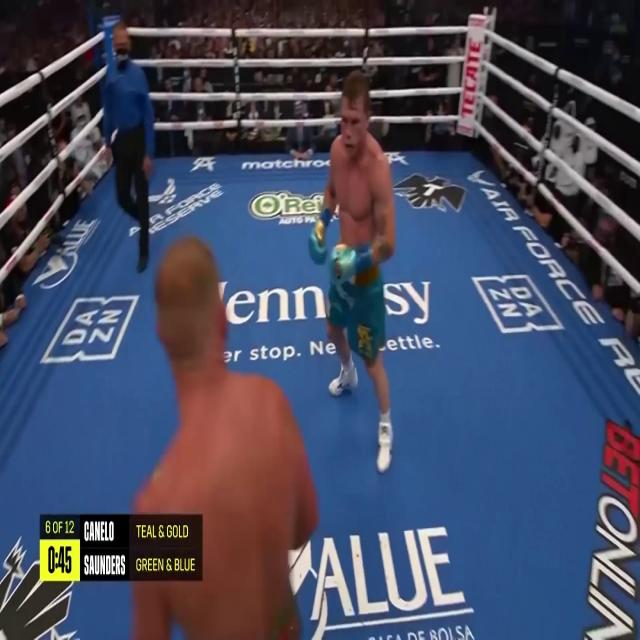boxer_1: (133, 236, 318, 639)
boxer_2: (324, 69, 396, 267)
gloves_2: (331, 242, 372, 282), (309, 206, 331, 263)
